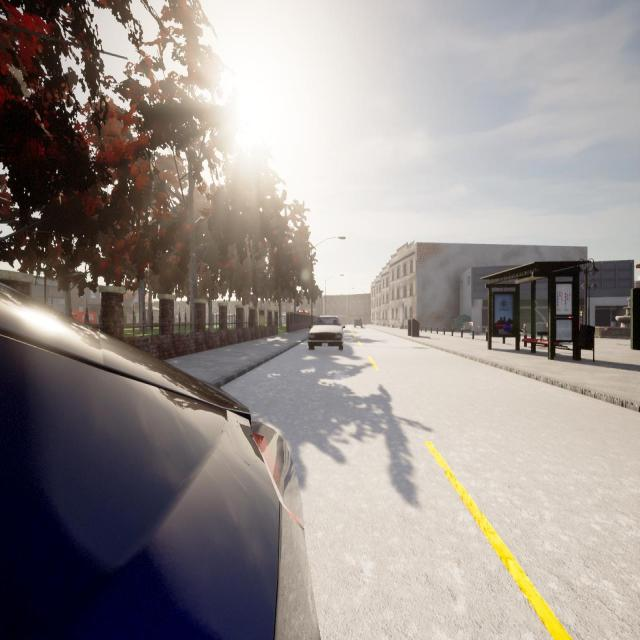Vehicle: (0, 287, 319, 640), (308, 315, 346, 351), (354, 317, 362, 328)
